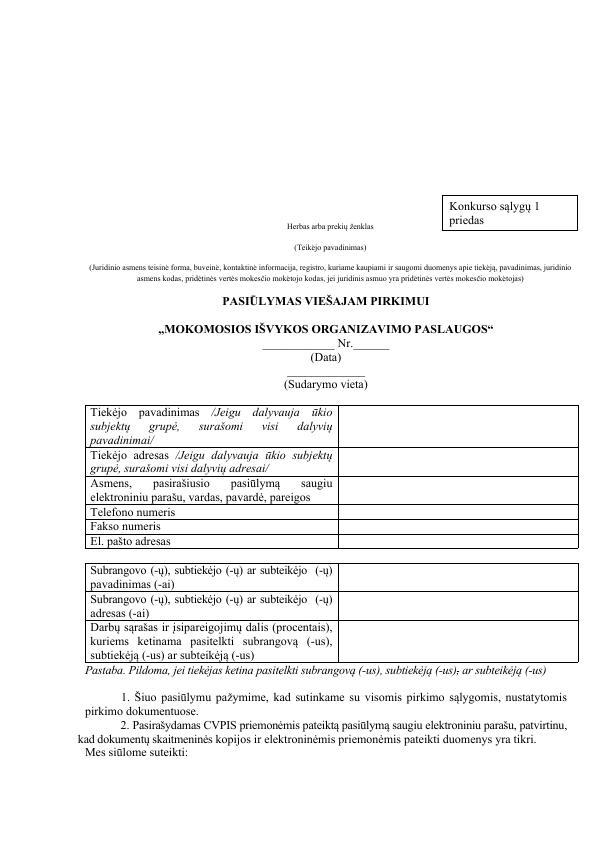input: (259, 338, 395, 394)
table: (84, 403, 580, 552), (83, 560, 580, 664), (439, 193, 580, 234)
text: (76, 689, 573, 767), (87, 263, 575, 287), (81, 666, 549, 680), (155, 322, 495, 335), (219, 293, 430, 309), (284, 218, 376, 234), (290, 241, 368, 254)
